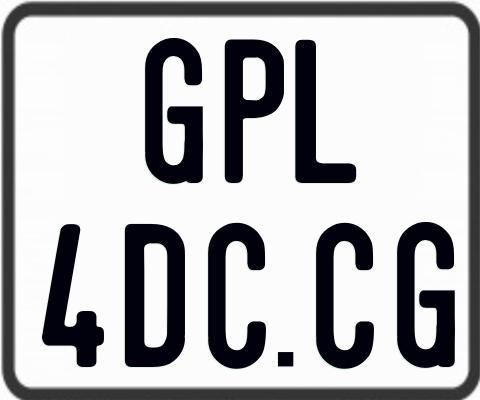4: (39, 221, 101, 366)
C: (316, 222, 374, 374), (206, 221, 265, 370)
D: (125, 223, 186, 367)
G: (143, 35, 205, 185), (394, 219, 454, 371)
L: (292, 40, 356, 187)
P: (225, 38, 286, 183)
